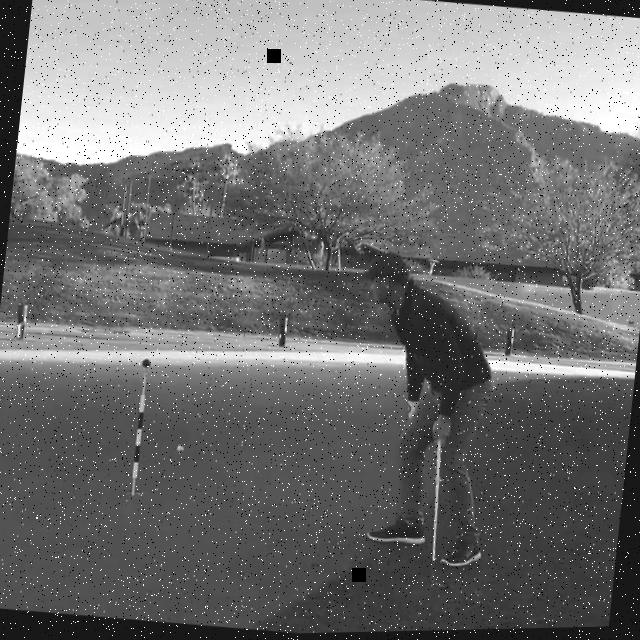ClubHead: (428, 580, 451, 592)
GolfBall: (175, 444, 184, 452)
